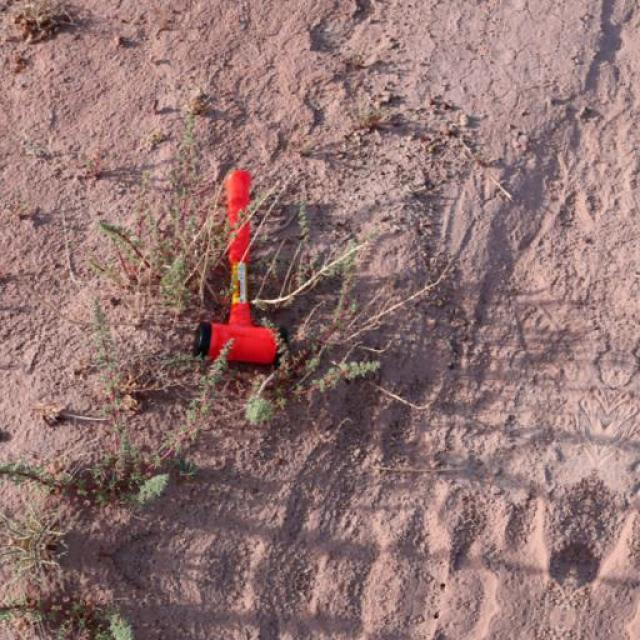mallet: (194, 166, 285, 366)
